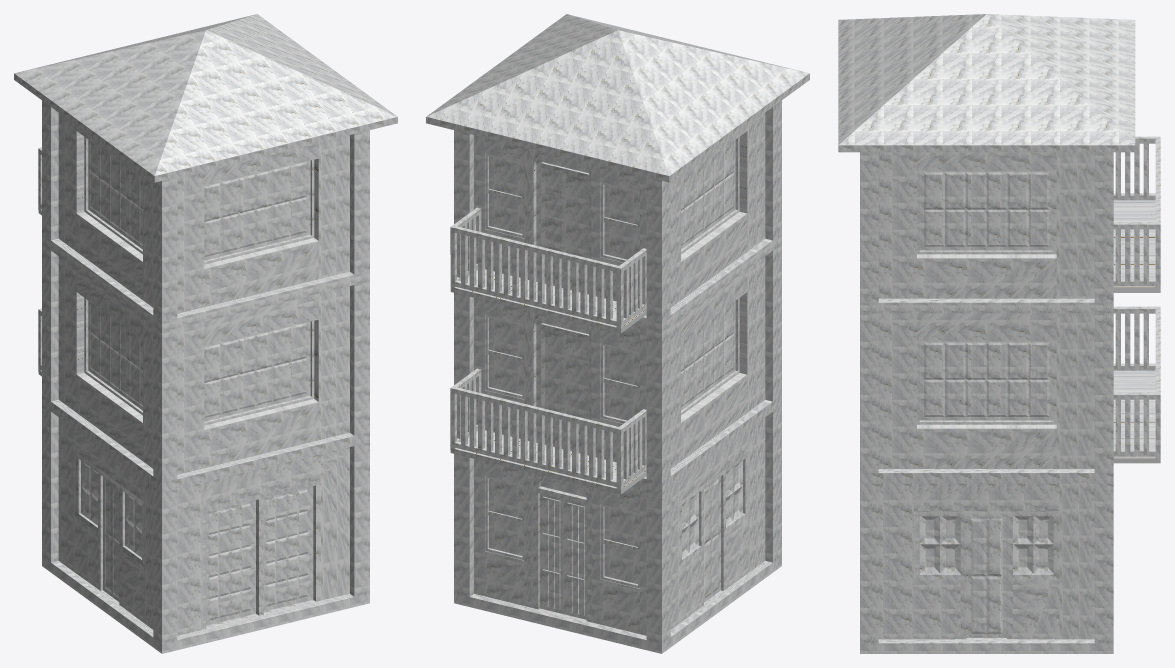
Rendered from House.fbx.
3 views of the same model, side by side, from view 1: azimuth 30°, elevation 25°; view 2: azimuth 150°, elevation 25°; view 3: azimuth 270°, elevation 25° (orthographic). The views are drawn at different scales.
Visible parts, largest first — view 1: building_001; view 2: building_001; view 3: building_001.
Part boxes in pixels (x1,y1,x2,y2): building_001: (14, 14, 397, 653); building_001: (426, 14, 809, 653); building_001: (838, 14, 1160, 653).
Size of the model in its own units: 506 by 1102 by 549.
Materials: 1 (1 with a texture image).
